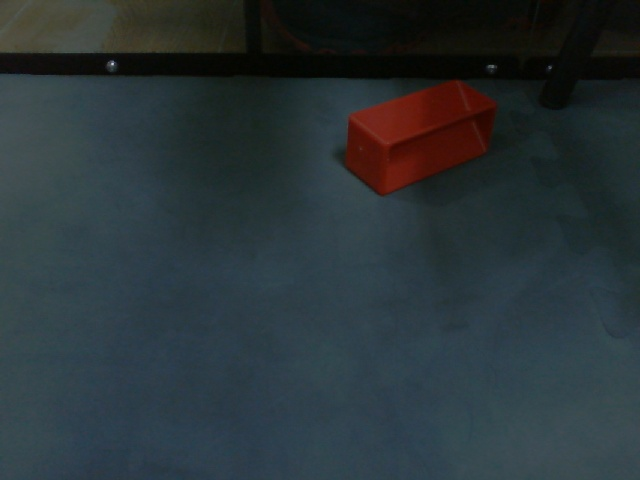RedSample: (341, 78, 500, 200)
